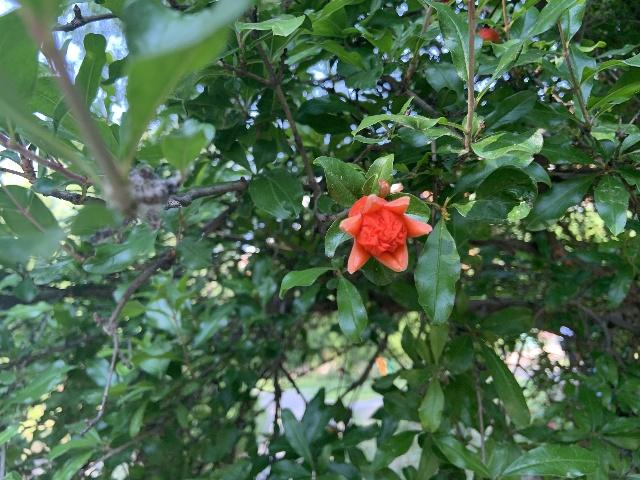bud: (476, 27, 500, 43), (376, 178, 390, 198)
flower: (339, 193, 432, 274)
